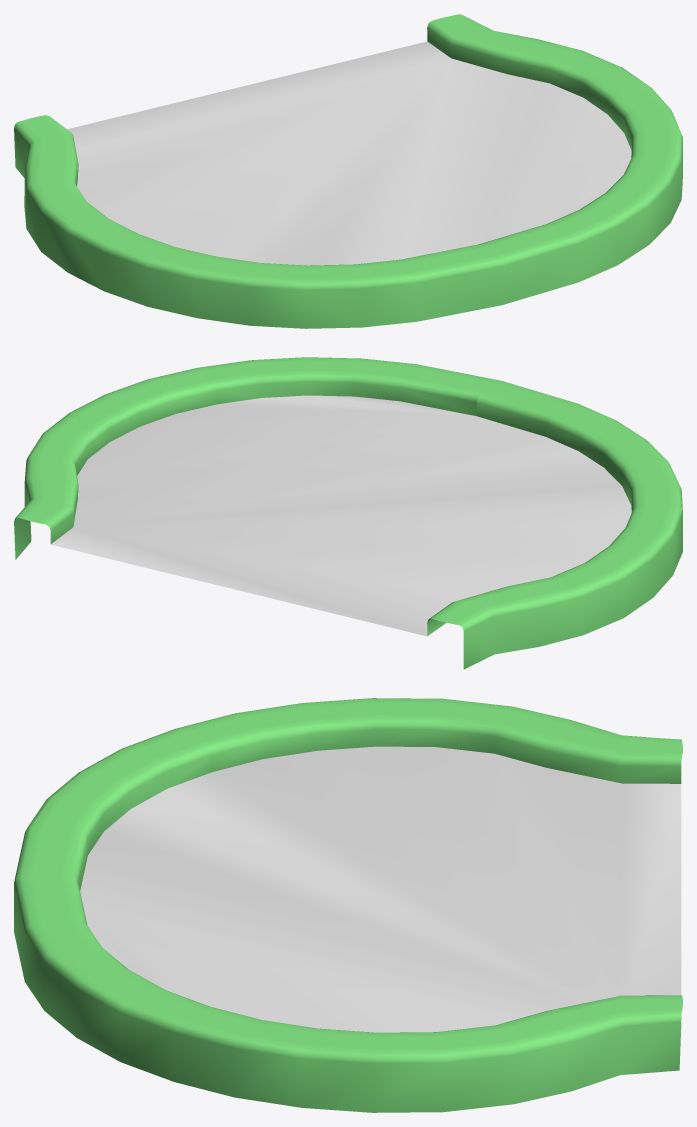
Rendered from platform.fbx.
The picture shows the model from 3 angles, top to bottom: view 1: azimuth 30°, elevation 25°; view 2: azimuth 150°, elevation 25°; view 3: azimuth 270°, elevation 25°; orthographic projection. The views are drawn at different scales.
Parts seen in each view (by area): view 1: Plane.001; view 2: Plane.001; view 3: Plane.001.
Boxes of the visible parts, x1,y1,x2,y2 form: Plane.001: [14, 14, 682, 328]; Plane.001: [14, 357, 682, 669]; Plane.001: [14, 698, 682, 1112].
Bounding box in the file's own units: 260 × 18.76 × 203.
